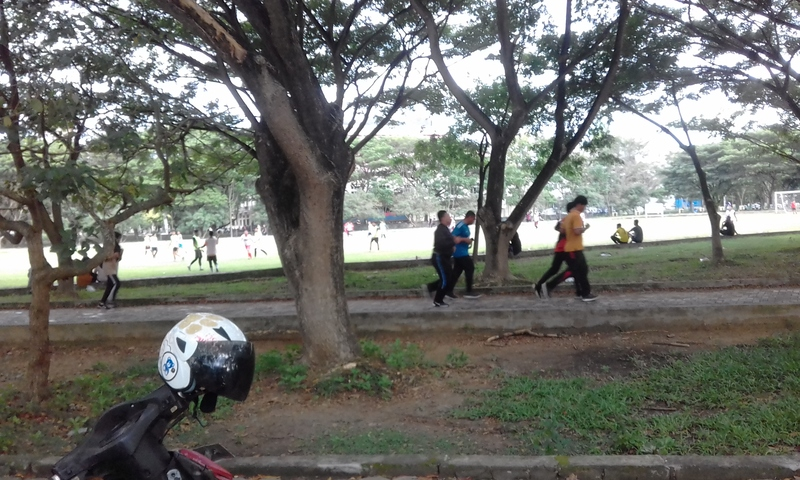person: (542, 191, 605, 305), (420, 208, 459, 310), (443, 209, 483, 301), (199, 226, 223, 270)
